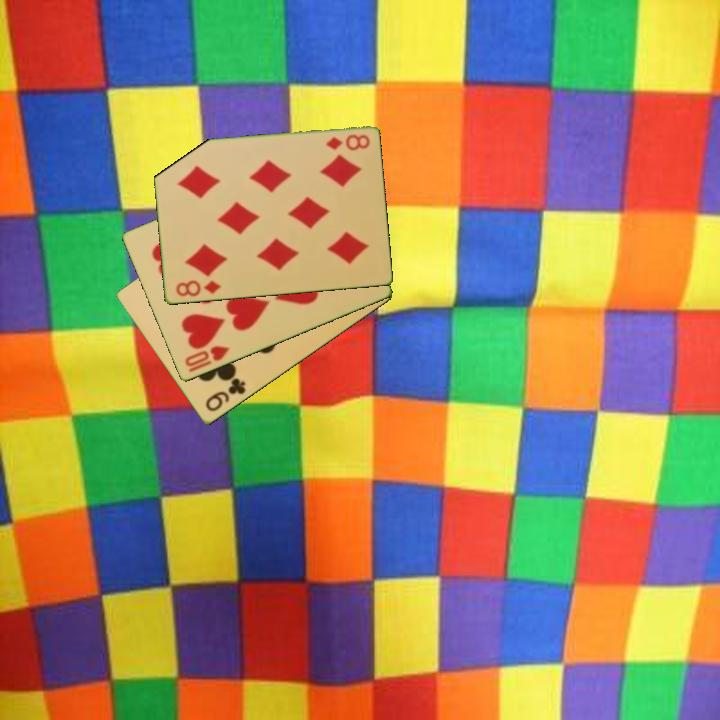10h: (181, 342, 233, 375)
8d: (172, 277, 224, 300), (322, 131, 373, 153)
9c: (202, 374, 249, 415)
